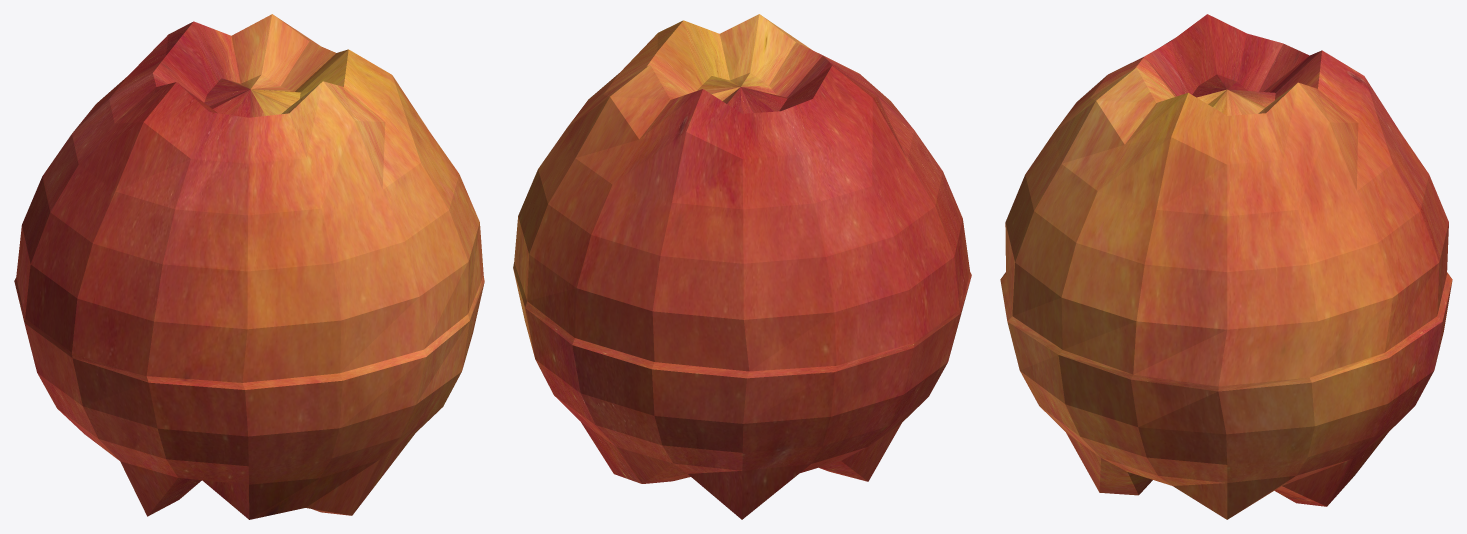
Rendered from apple.fbx.
3 views of the same model, side by side, from view 1: azimuth 30°, elevation 25°; view 2: azimuth 150°, elevation 25°; view 3: azimuth 270°, elevation 25° (orthographic). The views are drawn at different scales.
Parts seen in each view (by area): view 1: pSphere1; view 2: pSphere1; view 3: pSphere1.
Part boxes in pixels (left/top/right/bottom): pSphere1: left=14, top=14, right=484, bottom=519; pSphere1: left=513, top=14, right=971, bottom=519; pSphere1: left=1000, top=14, right=1452, bottom=519.
Bounding box in the file's own units: 9.82 × 10.19 × 9.41.
